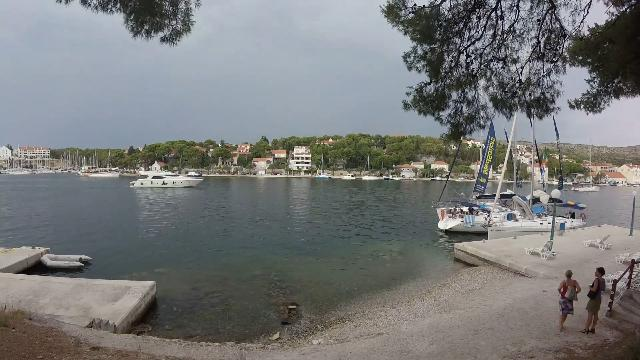ferry: (123, 164, 207, 190)
